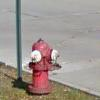Hydrant: (17, 29, 71, 90)
